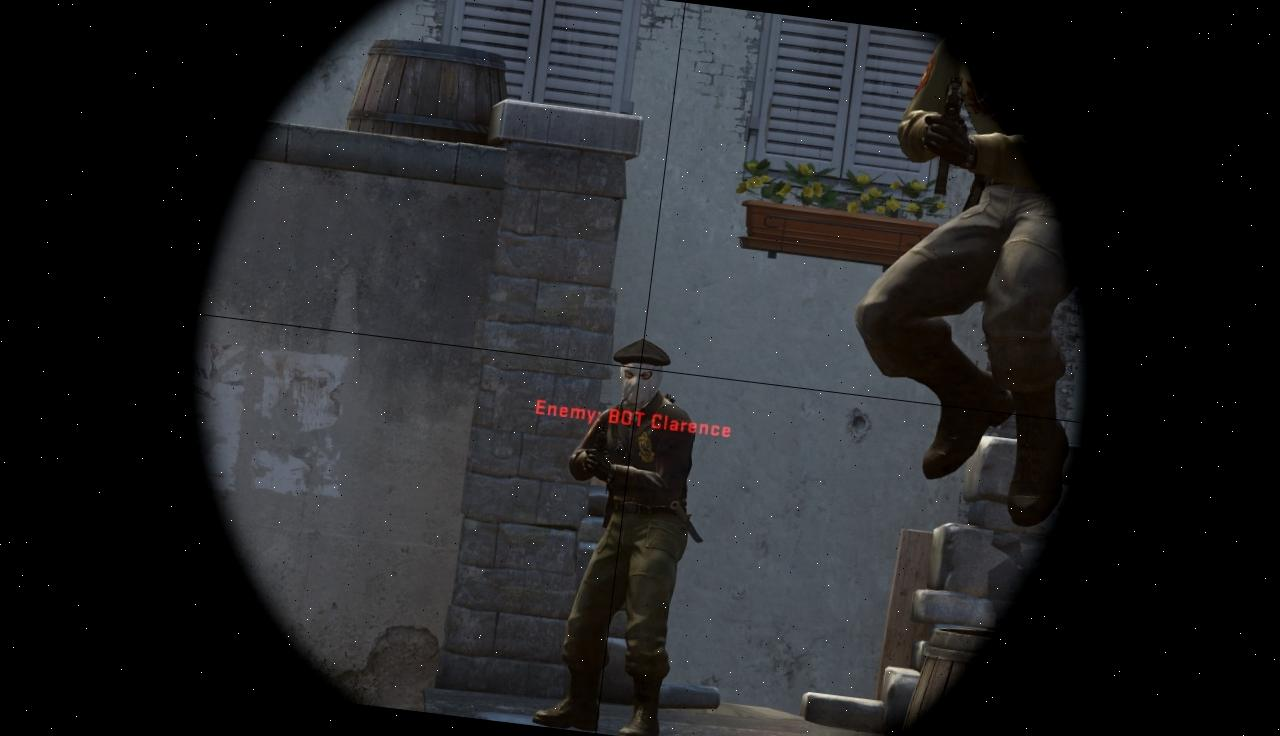tt: (856, 45, 1104, 468), (562, 335, 705, 736)
tthead: (616, 340, 665, 408)
